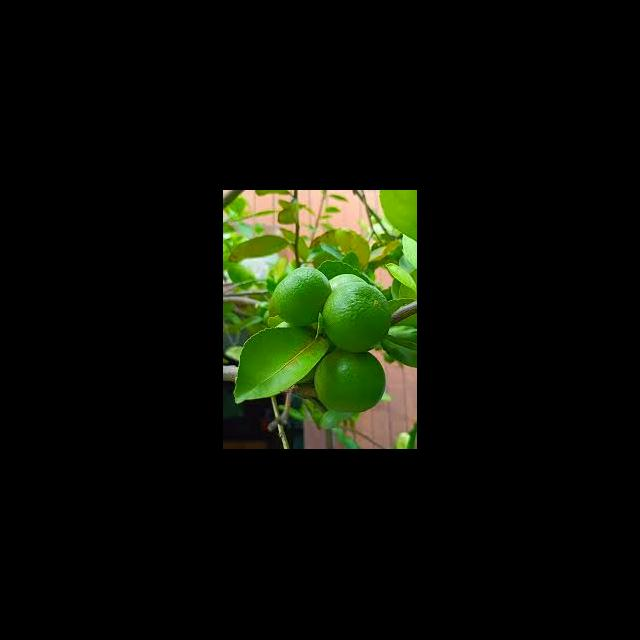lime: (234, 269, 388, 412), (323, 284, 392, 353), (315, 353, 388, 413), (274, 268, 333, 327)
